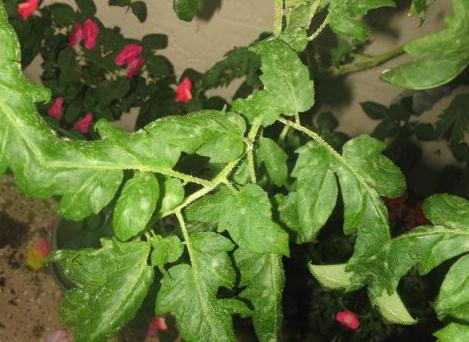Tomato mold leaf: (248, 105, 433, 306), (125, 214, 303, 342), (21, 91, 156, 246), (19, 215, 165, 342), (139, 72, 259, 181), (377, 5, 469, 125), (234, 30, 336, 126), (98, 162, 179, 255), (315, 0, 406, 60)
